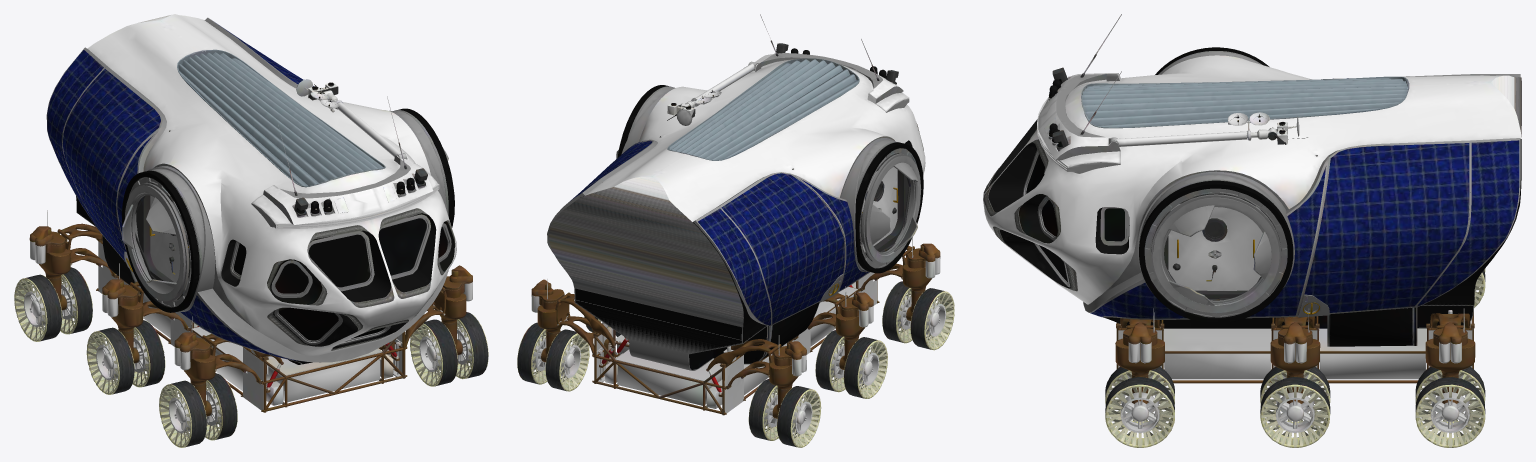
The model's file is sev_rover.glb.
3 views of the same model, side by side, from view 1: azimuth 30°, elevation 25°; view 2: azimuth 150°, elevation 25°; view 3: azimuth 270°, elevation 25° (orthographic). The views are drawn at different scales.
Parts seen in each view (by area): view 1: MMSEV; view 2: MMSEV; view 3: MMSEV.
Boxes of the visible parts, <box> form: MMSEV: <box>14,14,488,447</box>; MMSEV: <box>517,14,954,447</box>; MMSEV: <box>983,14,1521,447</box>.
Bounding box in the file's own units: 4.04 × 3.97 × 5.91.
Materials: 1 (1 with a texture image).
